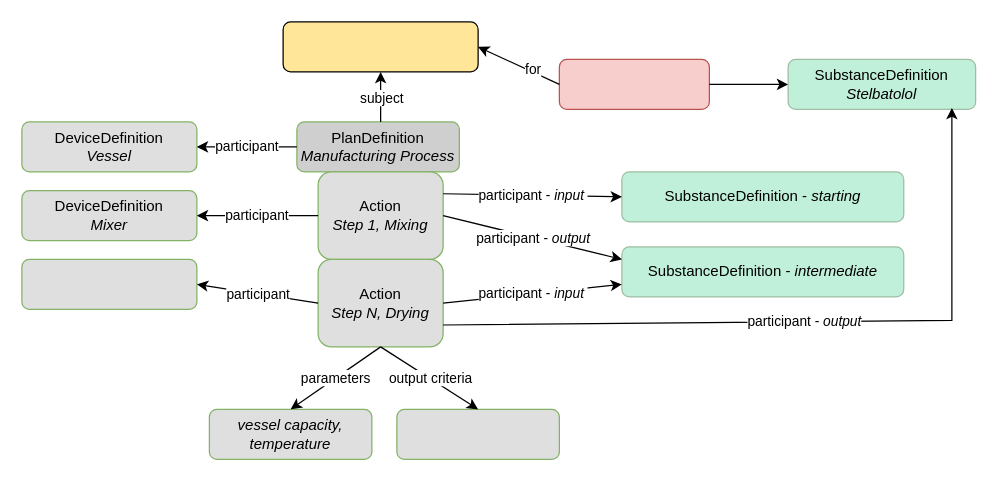
This 998x481 diagram has some shape labels left out. Here are the shapes that lost their labels. From the top down, the centre of each, then its label:
At (380,46): "MedicinalProductDefinition Stelbat Tablets, 20mg".
At (633,83): "Ingredient".
At (109,283): "DeviceDefinition Dryer".
At (477,433): "pH, water content".
